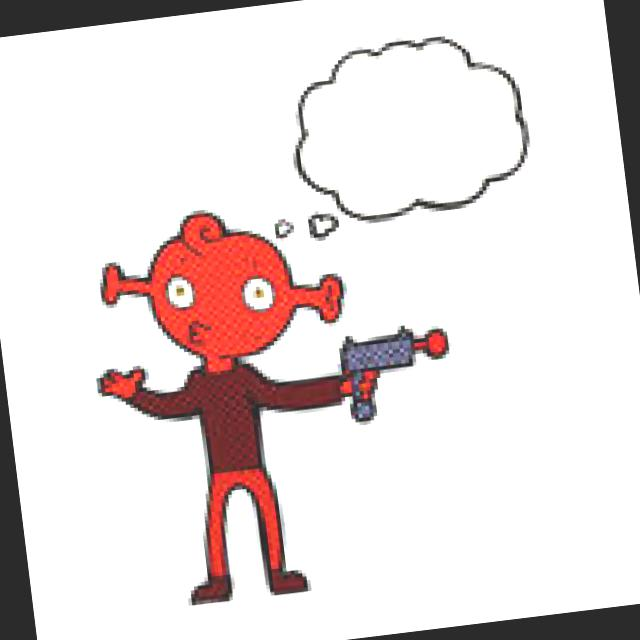handgun: (333, 320, 429, 420)
